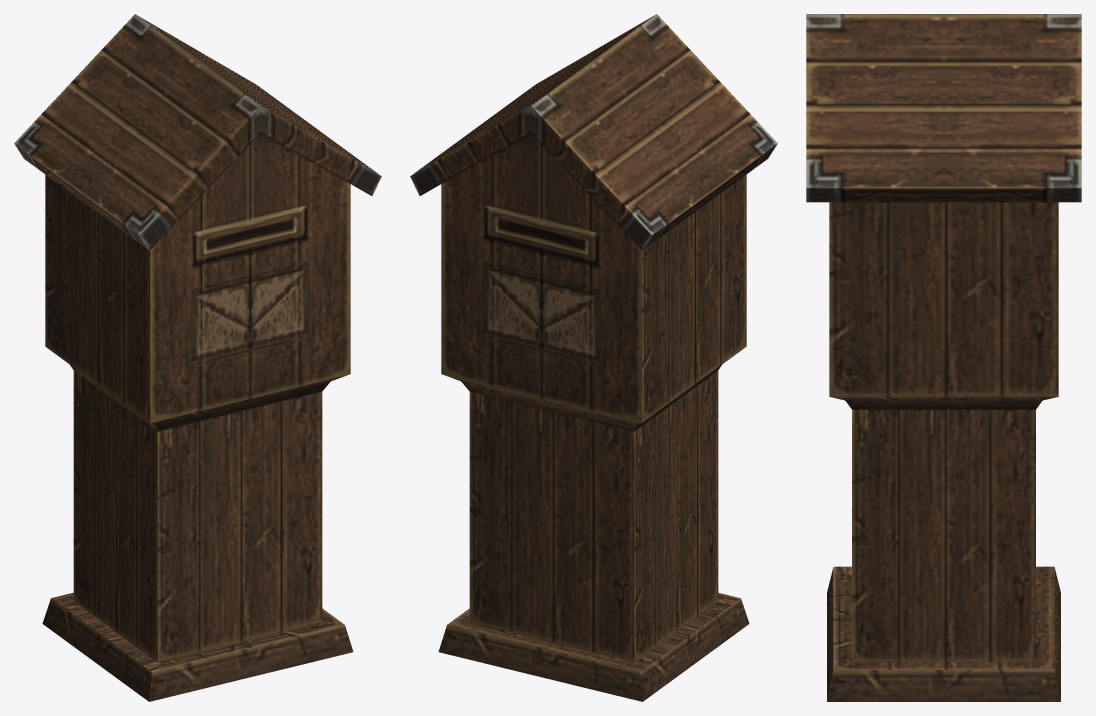
File: Postbox01_a.FBX
3 renders of one model, left to right at view 1: azimuth 30°, elevation 25°; view 2: azimuth 150°, elevation 25°; view 3: azimuth 270°, elevation 25°, orthographic. The views are drawn at different scales.
Parts seen in each view (by area): view 1: Postbox01_a; view 2: Postbox01_a; view 3: Postbox01_a.
Part boxes in pixels (box(x1,y1,x2,y2)): Postbox01_a: box(14, 14, 381, 701); Postbox01_a: box(410, 14, 777, 701); Postbox01_a: box(806, 14, 1081, 701).
Size of the model in its own units: 60.4 by 138 by 54.31.
